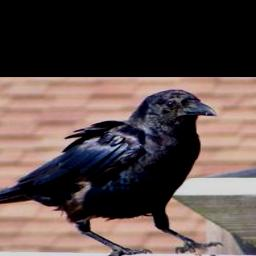Crow: (0, 89, 223, 256)
